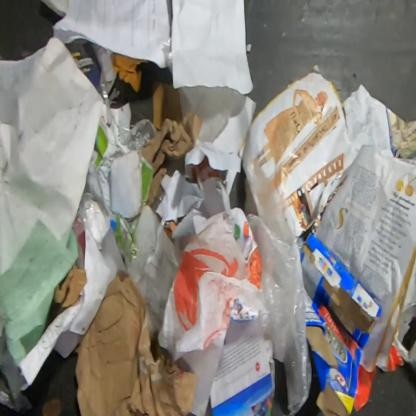cardboard: (75, 270, 197, 415), (300, 232, 384, 415), (86, 102, 154, 264), (137, 115, 203, 210), (221, 206, 262, 289), (54, 263, 86, 308), (153, 81, 182, 130), (354, 364, 378, 412), (231, 301, 259, 323), (387, 344, 404, 372), (42, 396, 62, 416)
soft_plastic: (242, 162, 312, 416), (156, 212, 262, 362), (179, 84, 247, 144), (117, 117, 156, 150), (72, 191, 96, 237), (161, 35, 173, 76)
